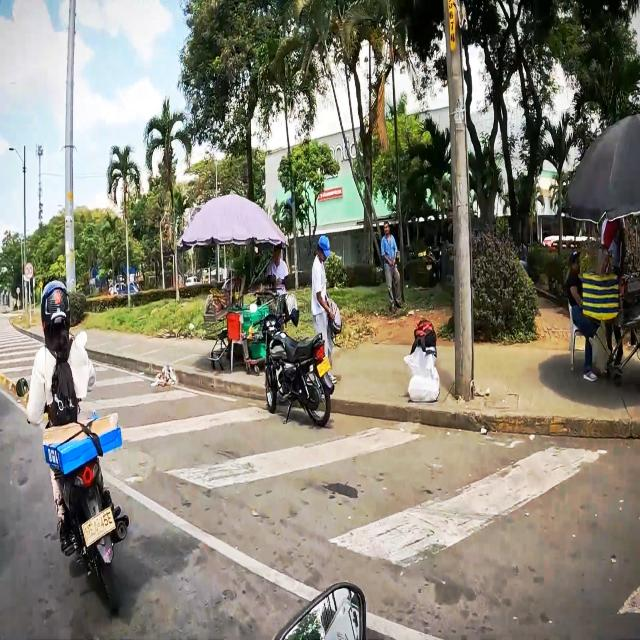license_plate: (81, 505, 116, 548)
